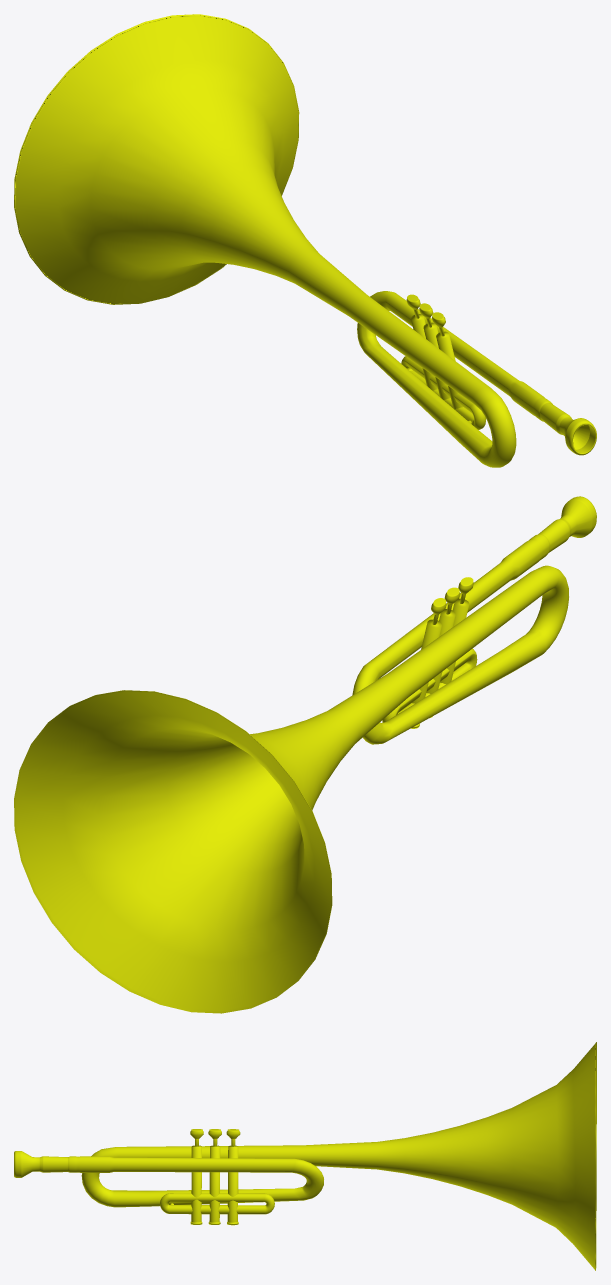
File: trumpetAnim.fbx
3 renders of one model, top to bottom at view 1: azimuth 30°, elevation 25°; view 2: azimuth 150°, elevation 25°; view 3: azimuth 270°, elevation 25°, orthographic. The views are drawn at different scales.
Parts seen in each view (by area): view 1: Trumpet_Baked; view 2: Trumpet_Baked; view 3: Trumpet_Baked.
Boxes of the visible parts, x1,y1,x2,y2 form: Trumpet_Baked: [14, 14, 596, 467]; Trumpet_Baked: [14, 496, 596, 1013]; Trumpet_Baked: [14, 1042, 596, 1270].
Size of the model in its own units: 0.3843 by 0.9291 by 0.3608.
